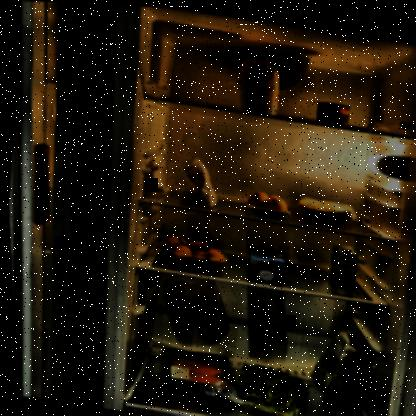chicken: (161, 346, 227, 385)
corn: (311, 96, 354, 126)
eggs: (242, 187, 290, 212)
green_beans: (225, 359, 315, 415)
heavy_cream: (324, 238, 361, 289)
milk: (239, 238, 289, 284)
potato: (159, 232, 225, 268)
spinach: (304, 319, 376, 415)
